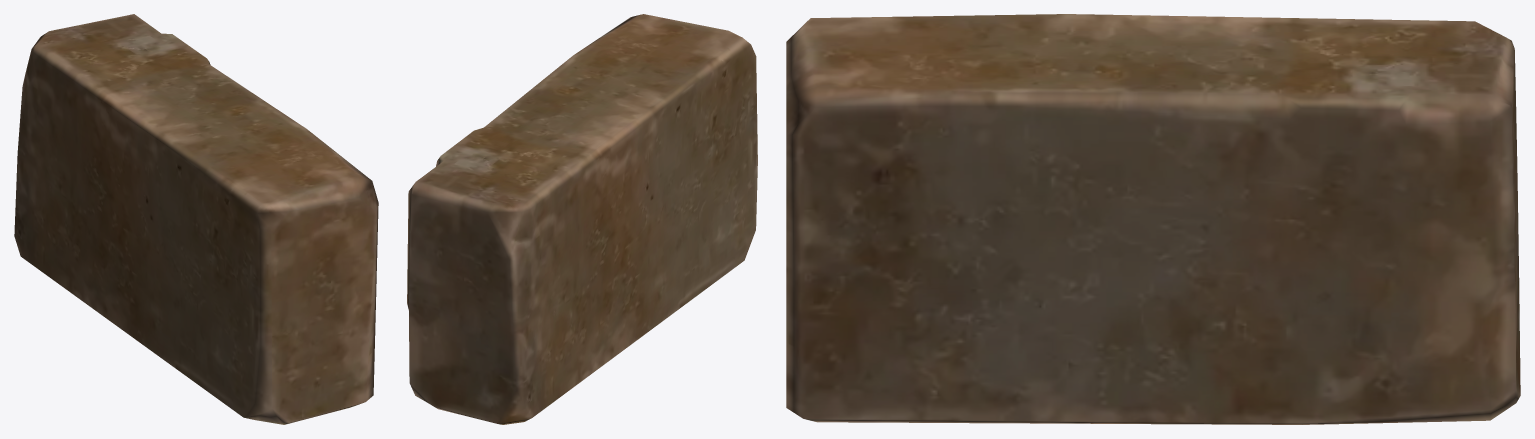
The picture shows the model from 3 angles, left to right: view 1: azimuth 30°, elevation 25°; view 2: azimuth 150°, elevation 25°; view 3: azimuth 270°, elevation 25°; orthographic projection. The views are drawn at different scales.
Parts seen in each view (by area): view 1: SM_DK_Brick_08_LOD0; view 2: SM_DK_Brick_08_LOD0; view 3: SM_DK_Brick_08_LOD0.
Part boxes in pixels (bbox=[...]): SM_DK_Brick_08_LOD0: bbox=[14, 14, 378, 424]; SM_DK_Brick_08_LOD0: bbox=[407, 14, 757, 424]; SM_DK_Brick_08_LOD0: bbox=[786, 14, 1520, 424].
Bounding box in the file's own units: 0.8032 × 1.37 × 2.7.
1 material, 1 textured.
